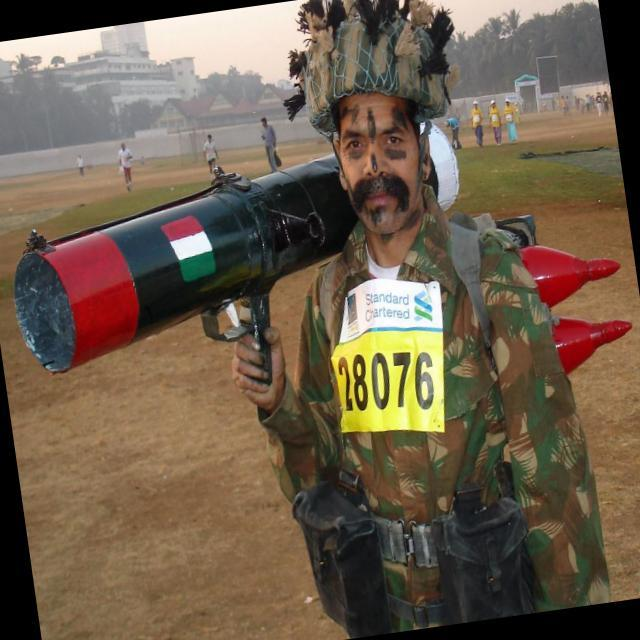rocket: (3, 139, 358, 387)
